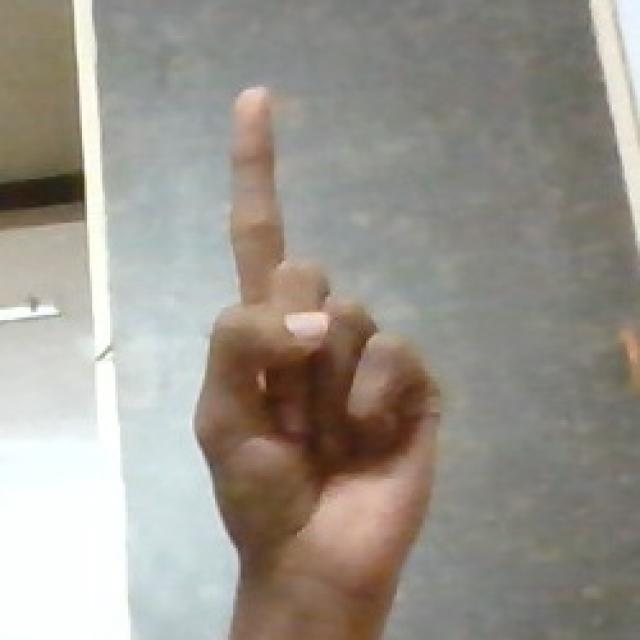Numeric-1: (203, 86, 441, 614)
